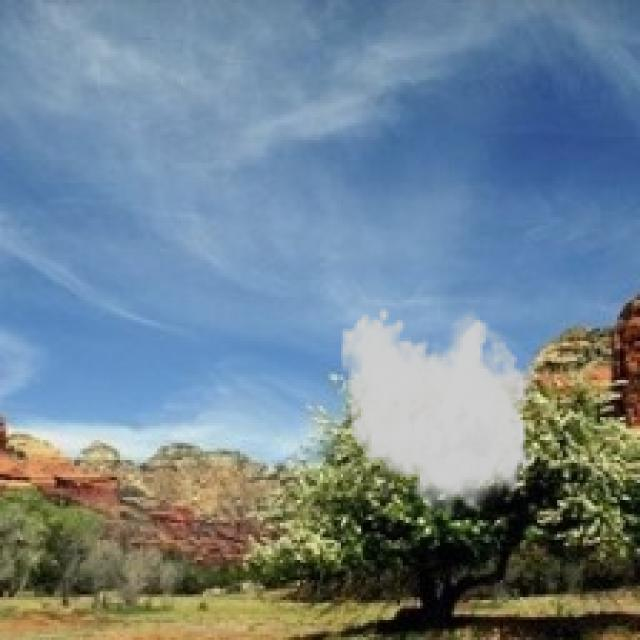smoke: (337, 306, 543, 520)
